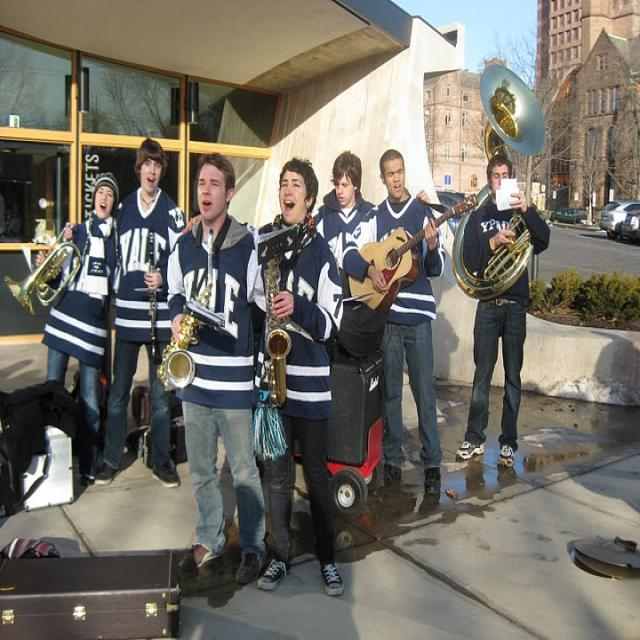clarinet: (144, 224, 162, 360)
guitar: (347, 194, 479, 316)
saxophone: (150, 225, 218, 394), (262, 250, 294, 414)
